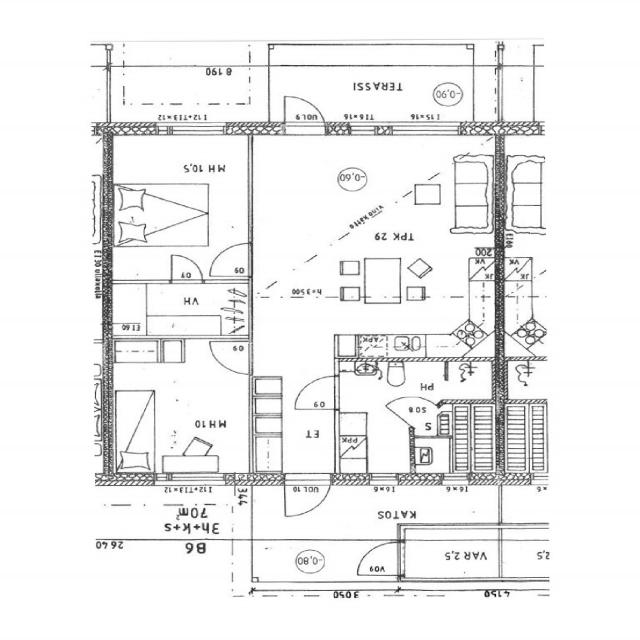door: (384, 386, 439, 429), (285, 473, 330, 521), (284, 90, 325, 136), (356, 542, 405, 576), (293, 376, 340, 410), (207, 244, 254, 276), (208, 342, 254, 374), (171, 254, 203, 284)
